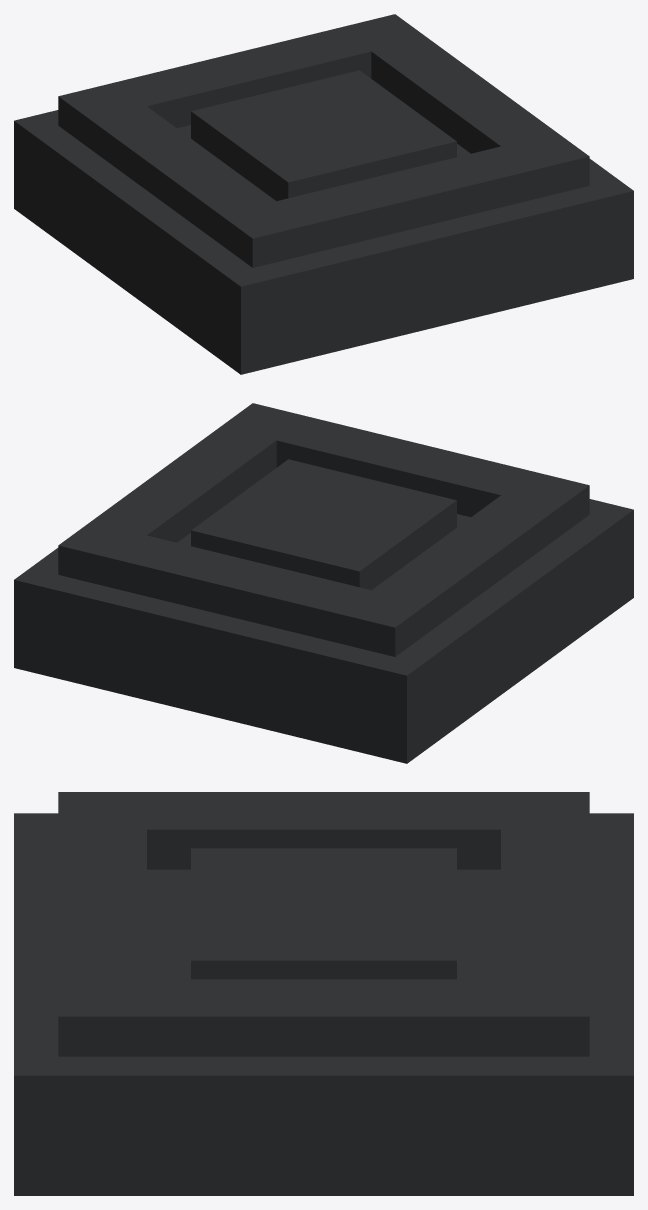
File: man-v3-black.gltf
3 renders of one model, top to bottom at view 1: azimuth 30°, elevation 25°; view 2: azimuth 150°, elevation 25°; view 3: azimuth 270°, elevation 25°, orthographic. The views are drawn at different scales.
Visible parts, largest first — view 1: Untitled; view 2: Untitled; view 3: Untitled.
Boxes of the visible parts, x1,y1,x2,y2 form: Untitled: [14, 14, 633, 374]; Untitled: [14, 403, 633, 763]; Untitled: [14, 792, 633, 1195].
Bounding box in the file's own units: 1.4 × 0.4 × 1.4.
1 material, 1 textured.
